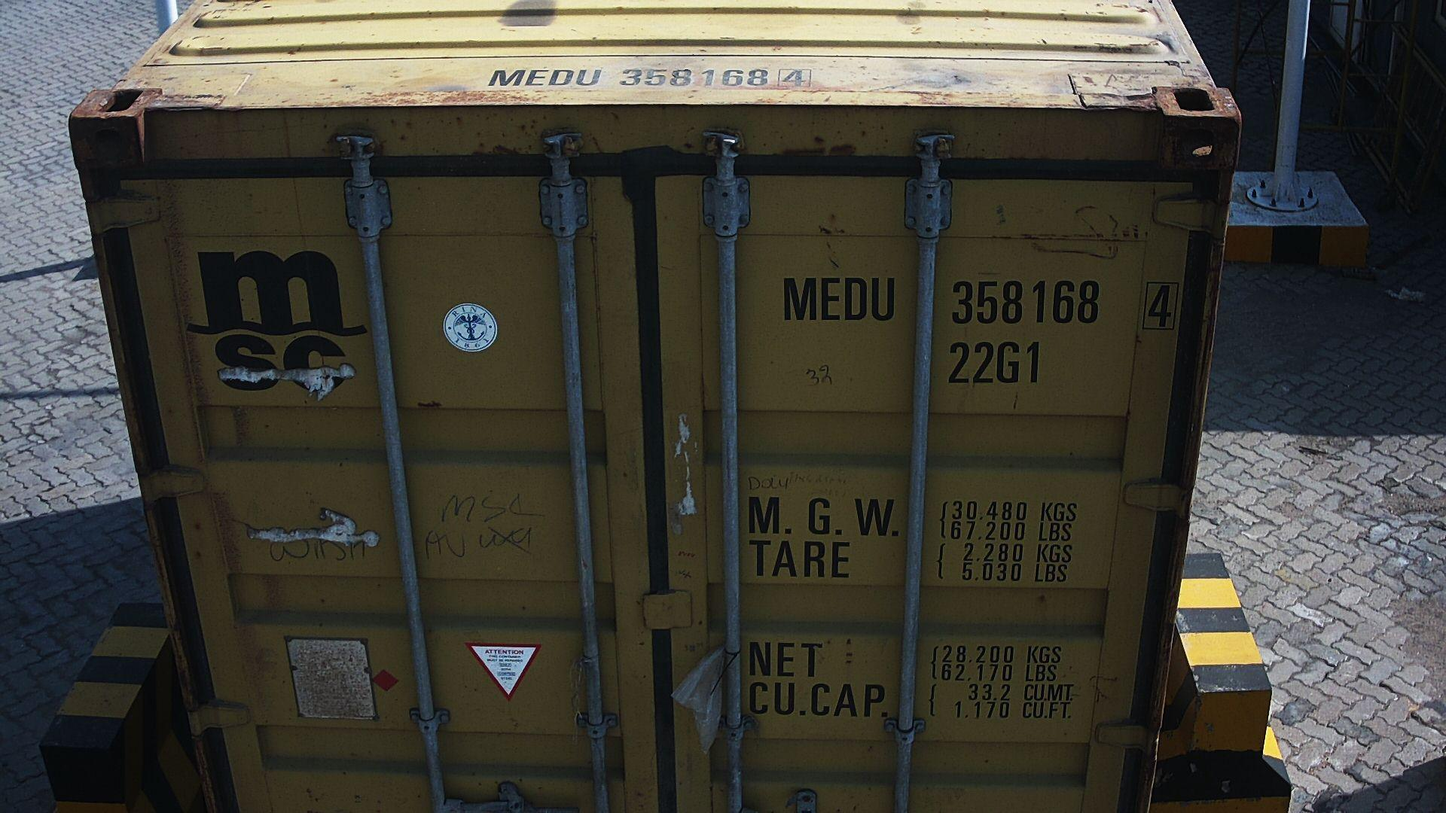container-numbers: (773, 272, 1185, 334), (483, 62, 818, 90), (943, 337, 1048, 389)
